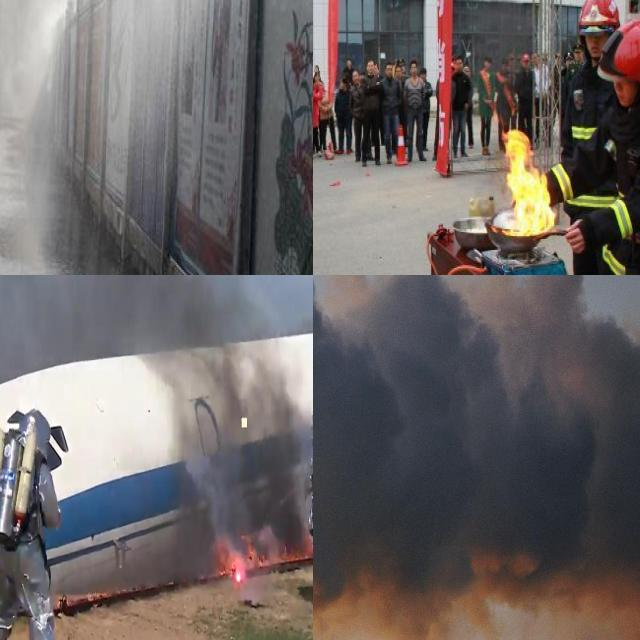fire: (498, 125, 553, 236), (212, 526, 313, 581), (52, 581, 112, 607)
smoke: (313, 275, 640, 640), (0, 275, 305, 533), (0, 0, 52, 89)
